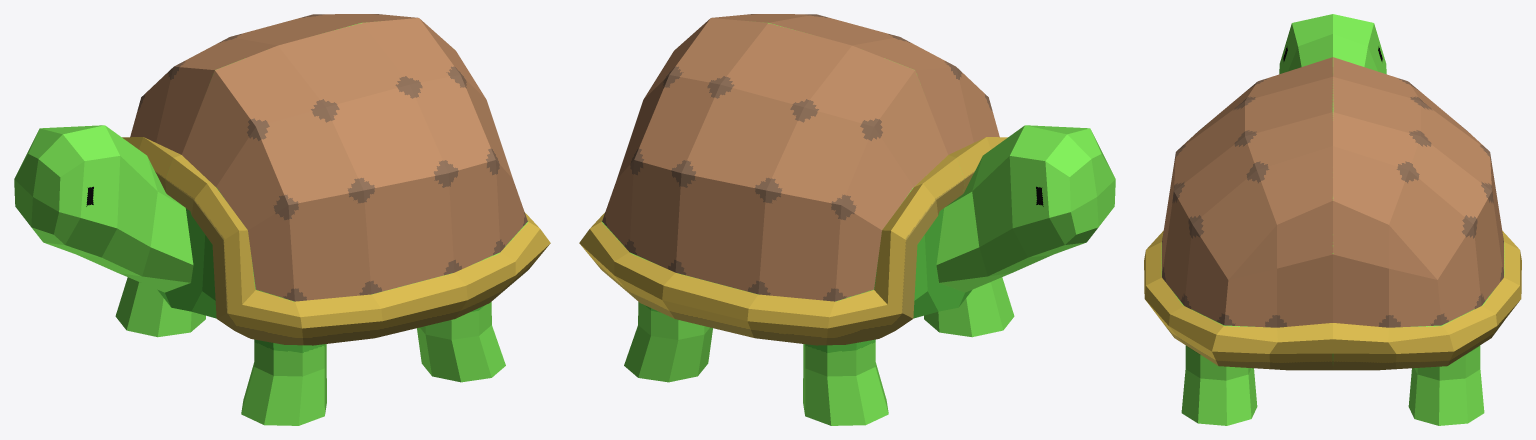
The model's file is Turtle.fbx.
The picture shows the model from 3 angles, left to right: view 1: azimuth 30°, elevation 25°; view 2: azimuth 150°, elevation 25°; view 3: azimuth 270°, elevation 25°; orthographic projection. The views are drawn at different scales.
Visible parts, largest first — view 1: Plane; view 2: Plane; view 3: Plane.
Boxes of the visible parts, bbox=[...] form: Plane: bbox=[14, 14, 550, 425]; Plane: bbox=[579, 14, 1115, 425]; Plane: bbox=[1144, 14, 1521, 425].
Bounding box in the file's own units: 193 × 124 × 151.
Materials: 1 (1 with a texture image).
